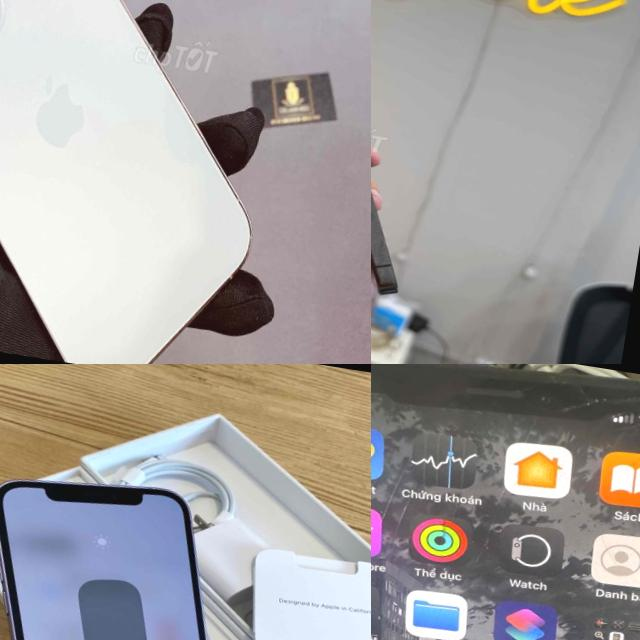gen_12_13: (0, 462, 281, 640), (371, 0, 449, 306)
gen_14: (0, 0, 311, 364)
gen_x_xs: (371, 364, 640, 640)
